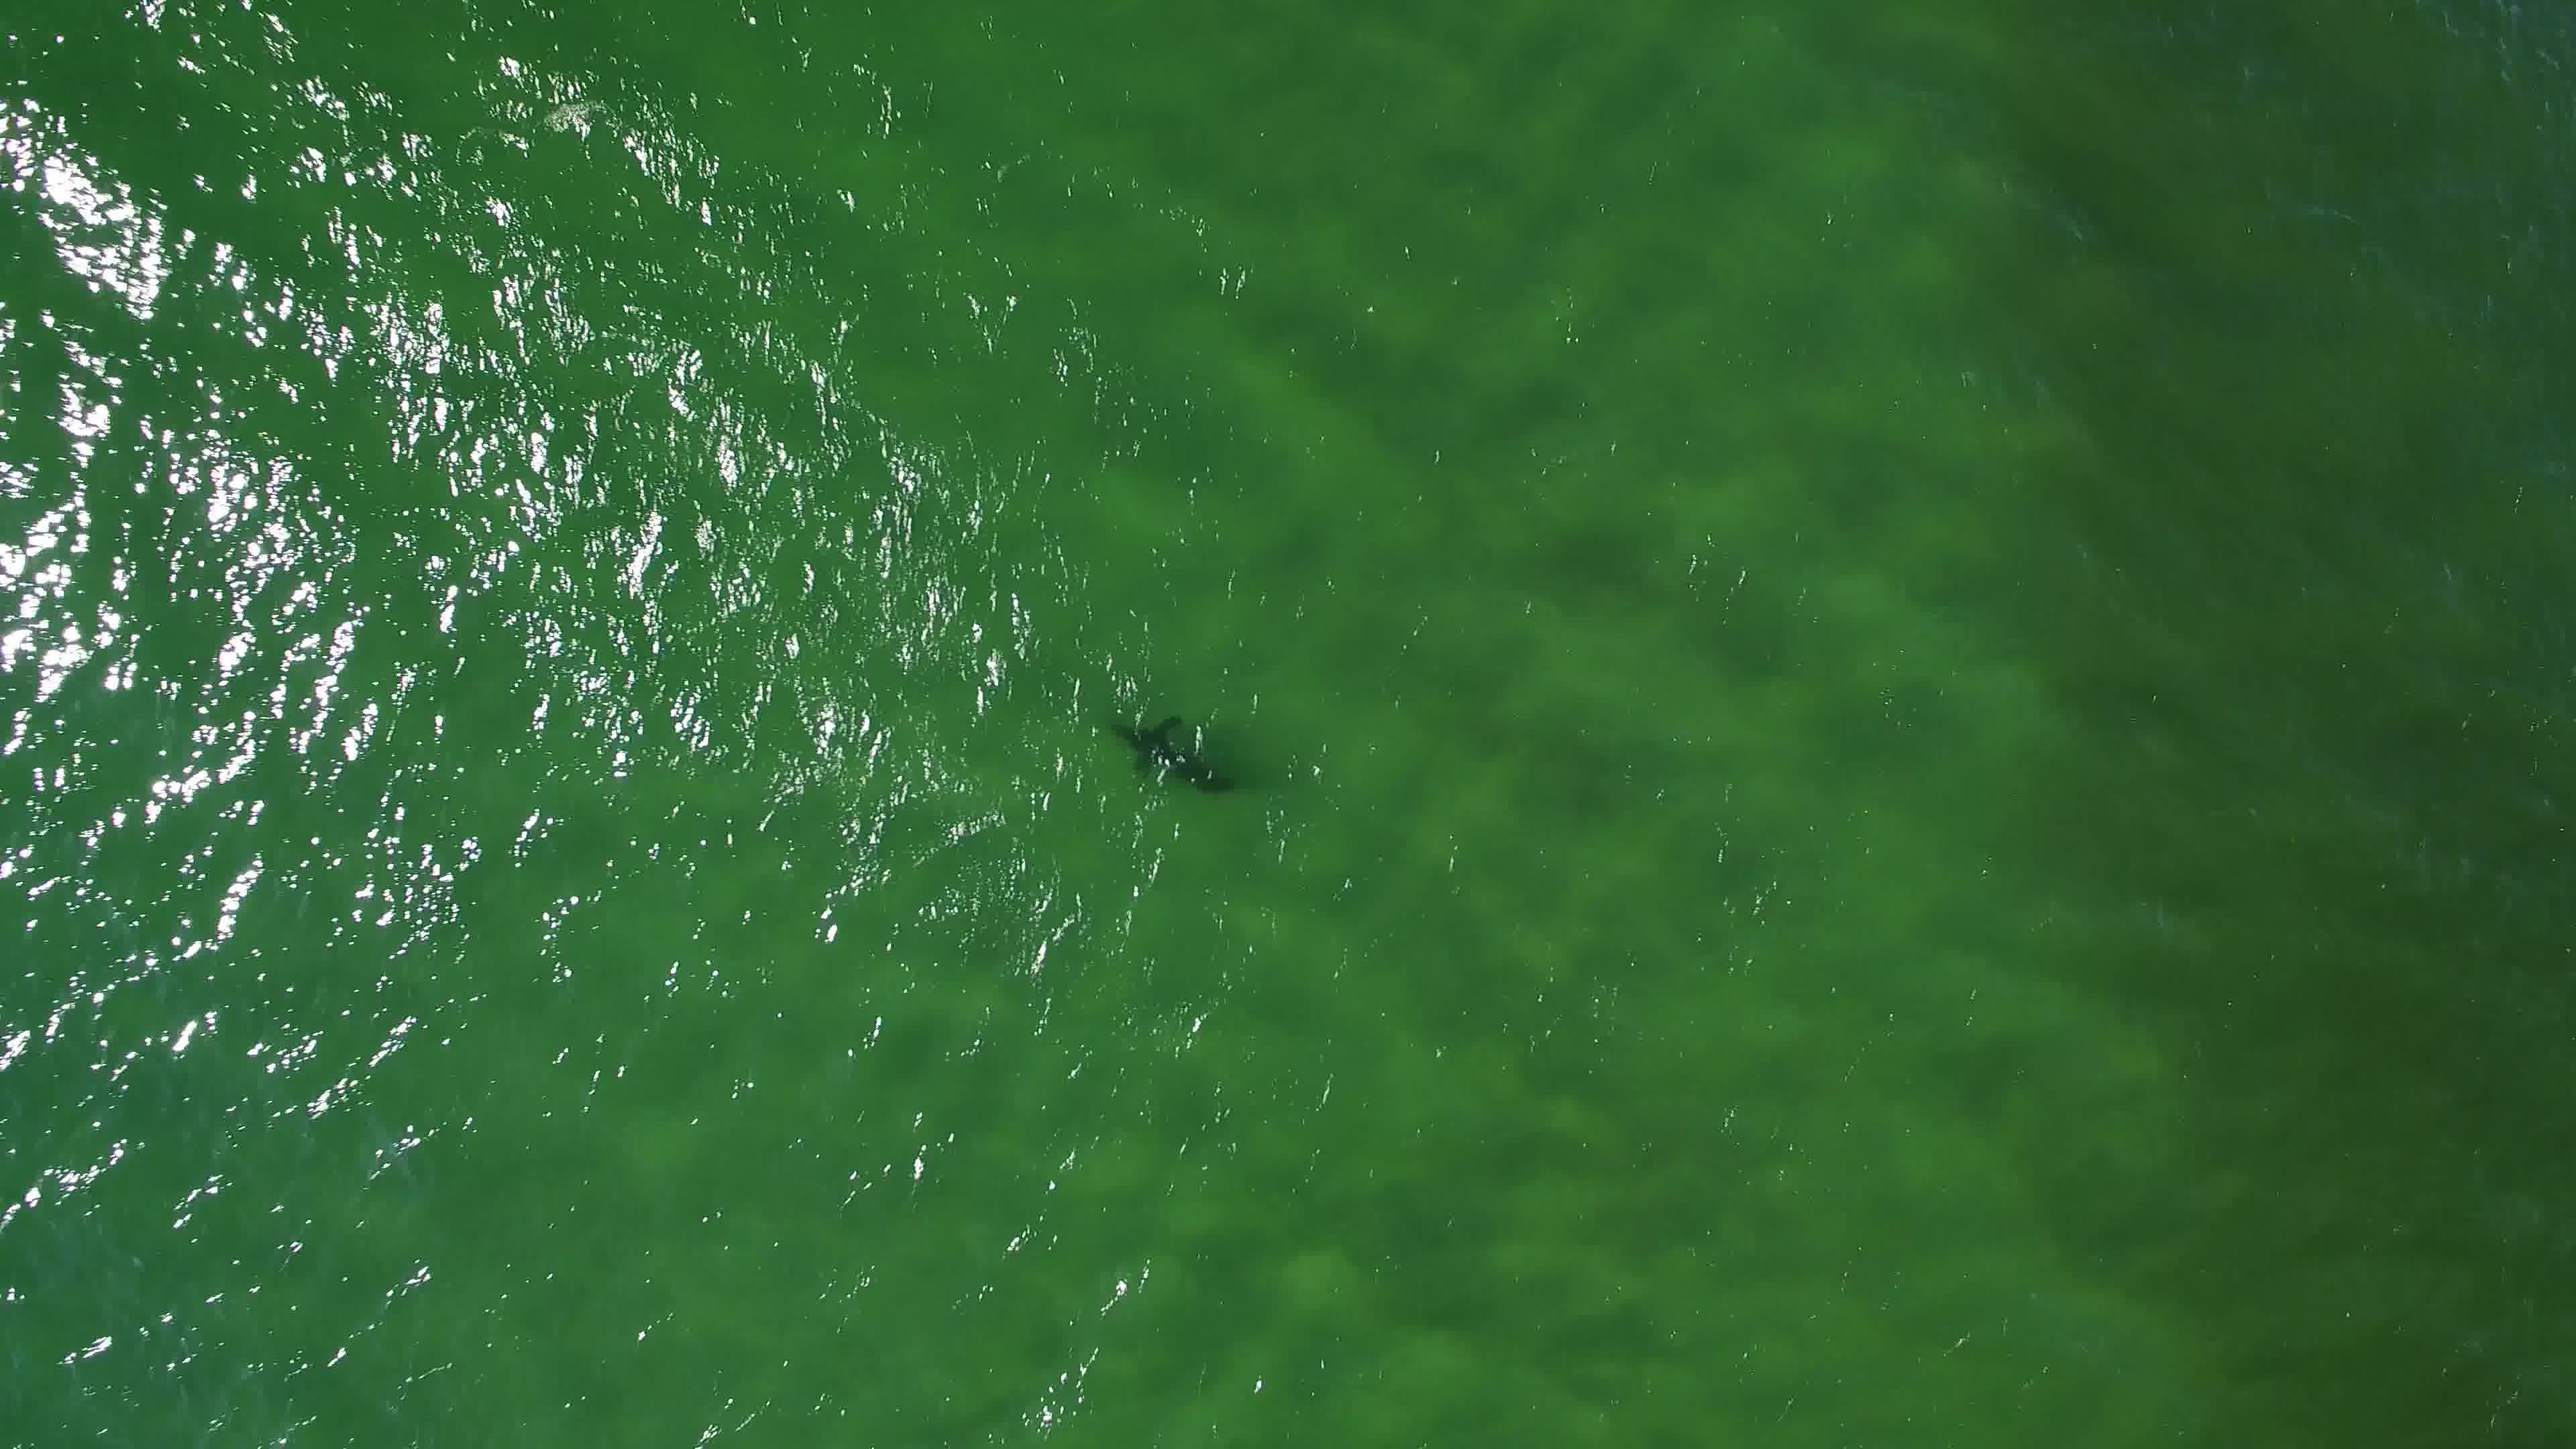shark: (1100, 708, 1240, 800)
